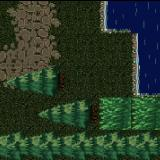Interaction: (120, 20, 144, 84), (121, 85, 160, 103), (88, 19, 120, 38), (88, 0, 114, 19)
Obstacle: (0, 129, 160, 160), (36, 66, 68, 97), (68, 97, 98, 129)
Slow: (99, 96, 160, 130), (107, 0, 160, 28), (141, 28, 160, 92)
